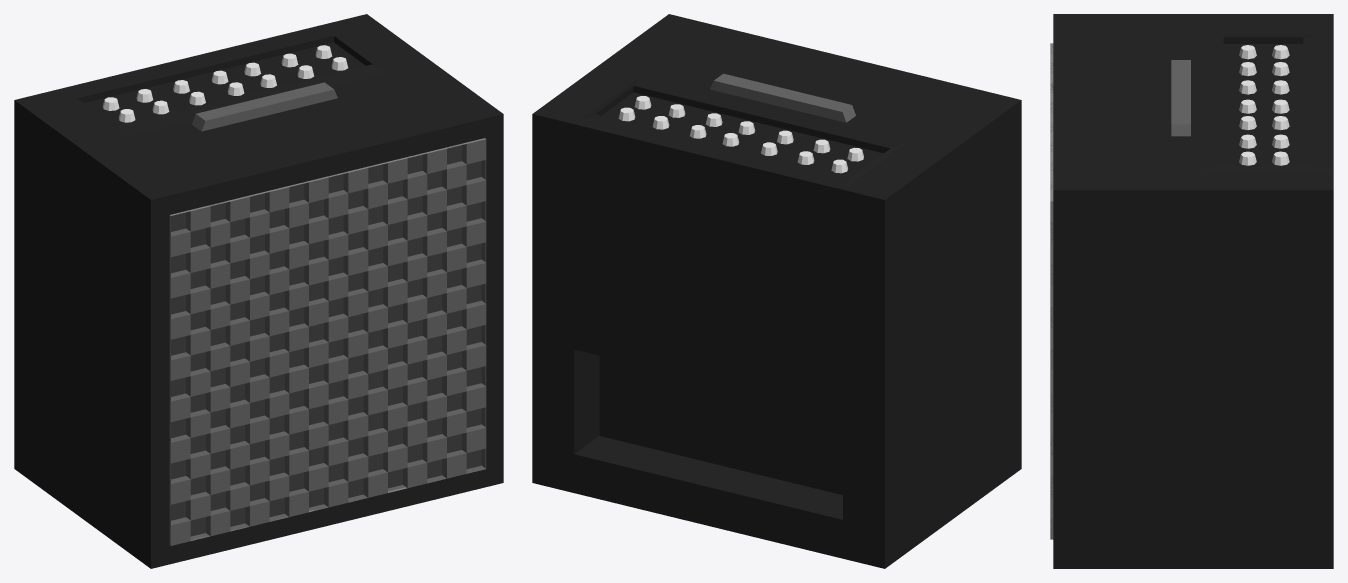
File: guitaramp.gltf
3 renders of one model, left to right at view 1: azimuth 30°, elevation 25°; view 2: azimuth 150°, elevation 25°; view 3: azimuth 270°, elevation 25°, orthographic. The views are drawn at different scales.
Visible parts, largest first — view 1: Cube; view 2: Cube; view 3: Cube.
Boxes of the visible parts, x1,y1,x2,y2 form: Cube: (14, 14, 503, 568); Cube: (532, 14, 1021, 568); Cube: (1050, 14, 1333, 568).
Bounding box in the file's own units: 0.3059 × 0.3141 × 0.2076.
Materials: 1 (1 with a texture image).
